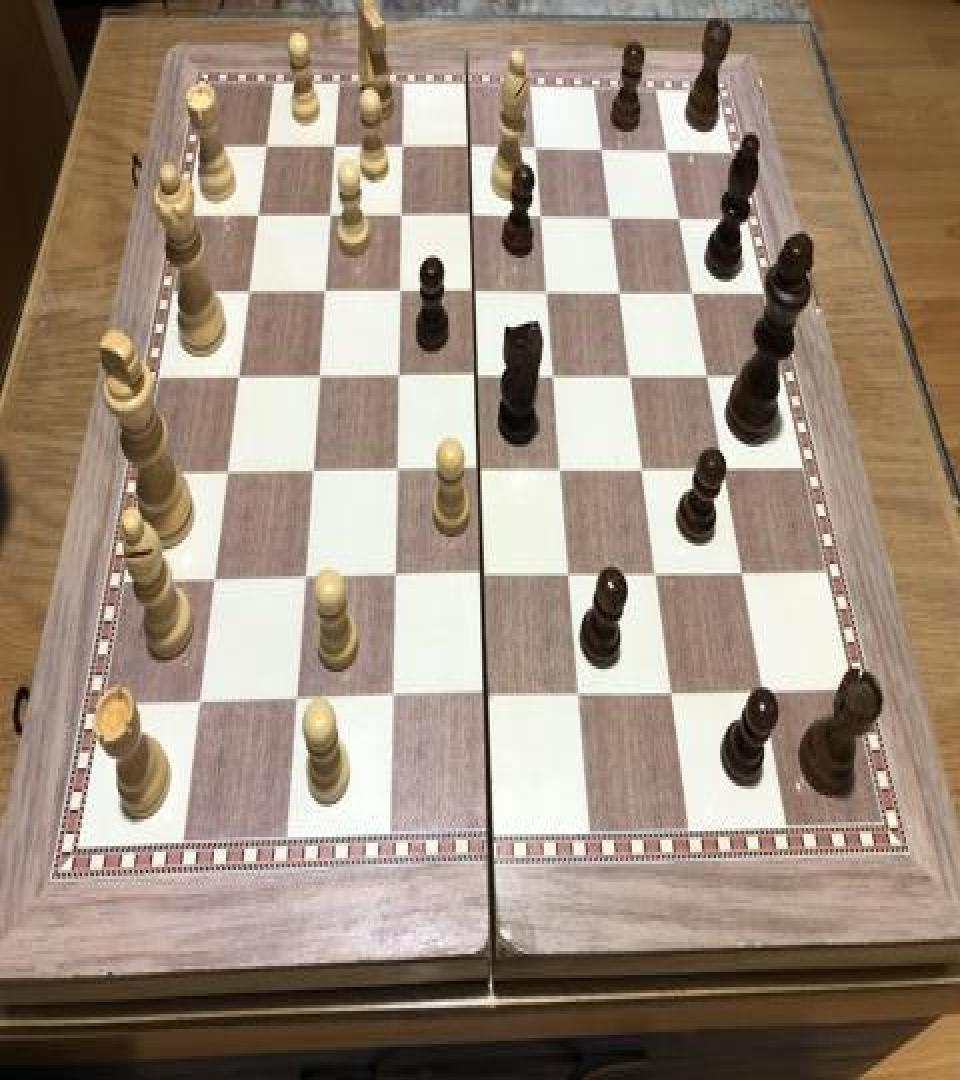xcorner: (211, 454, 237, 494), (643, 556, 669, 596), (556, 556, 582, 596), (198, 562, 224, 602), (566, 676, 592, 716), (281, 682, 307, 722), (655, 132, 681, 171), (589, 131, 615, 170), (522, 131, 548, 170), (455, 129, 481, 168), (387, 129, 413, 168), (250, 126, 276, 165), (528, 198, 554, 237), (457, 198, 483, 237), (386, 198, 412, 237), (314, 197, 340, 236), (242, 197, 268, 236), (680, 274, 706, 313), (607, 274, 633, 313), (534, 274, 560, 313), (460, 274, 486, 313), (385, 273, 411, 312), (309, 273, 335, 312), (233, 273, 259, 312), (695, 358, 721, 397), (618, 358, 644, 397), (541, 358, 567, 397), (462, 358, 488, 397), (383, 358, 409, 397), (303, 358, 329, 397), (222, 358, 248, 397), (711, 450, 737, 489), (465, 453, 491, 492), (381, 453, 407, 492), (297, 453, 323, 492), (730, 555, 756, 594), (468, 558, 494, 597), (379, 559, 405, 598), (289, 561, 315, 600), (750, 672, 776, 711), (659, 675, 685, 714), (472, 678, 498, 717), (377, 681, 403, 720), (184, 684, 210, 723), (319, 128, 345, 166), (667, 200, 693, 238), (598, 200, 624, 238), (630, 452, 656, 490), (548, 452, 574, 490)
